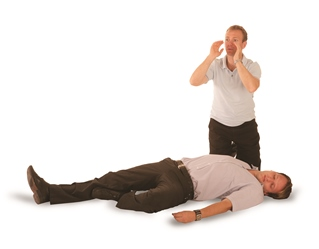collapsed: (4, 122, 315, 231)
